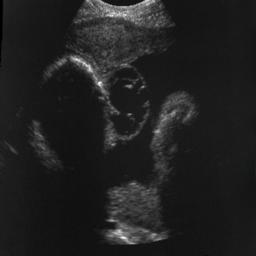abnormal: (26, 46, 154, 185)
